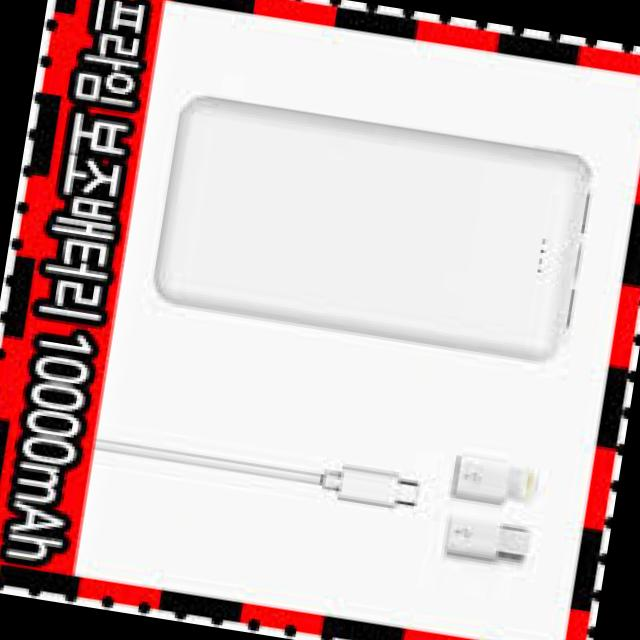power_bank: (147, 89, 600, 370)
